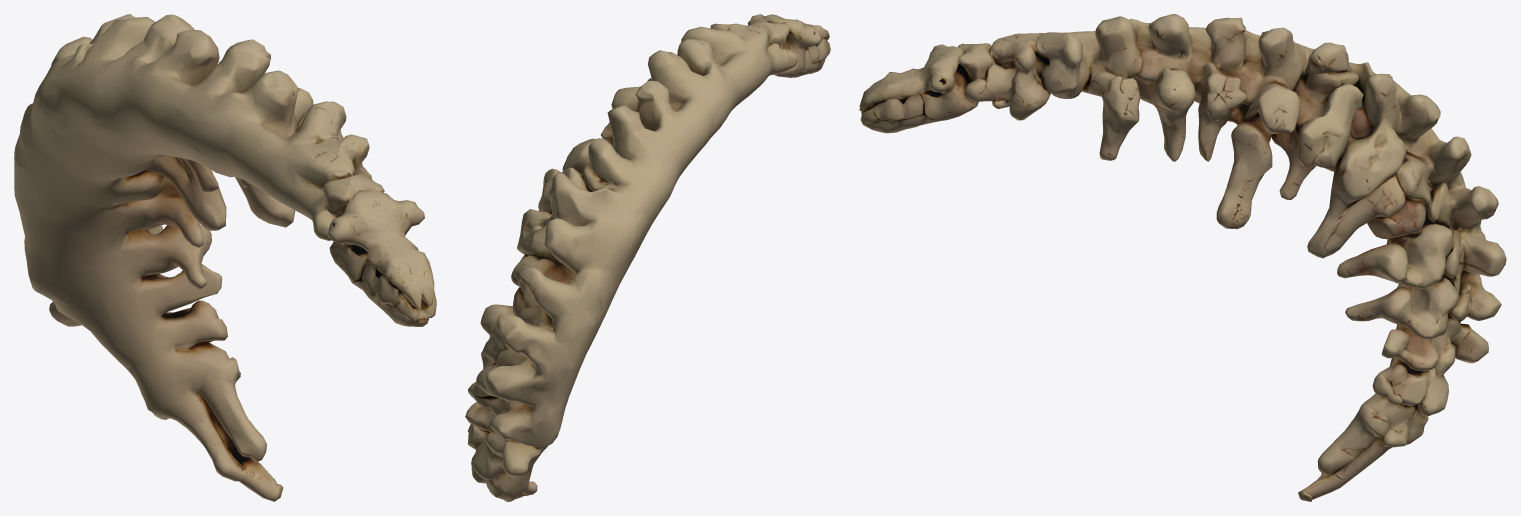
Rendered from tail_vertebrae.glb.
3 renders of one model, left to right at view 1: azimuth 30°, elevation 25°; view 2: azimuth 150°, elevation 25°; view 3: azimuth 270°, elevation 25°, orthographic. The views are drawn at different scales.
Parts seen in each view (by area): view 1: tripo_node_9f206449-1540-400e-b222-0fb75667561f; view 2: tripo_node_9f206449-1540-400e-b222-0fb75667561f; view 3: tripo_node_9f206449-1540-400e-b222-0fb75667561f.
Part boxes in pixels (<box>): tripo_node_9f206449-1540-400e-b222-0fb75667561f: <box>14,14,436,501</box>; tripo_node_9f206449-1540-400e-b222-0fb75667561f: <box>465,14,830,501</box>; tripo_node_9f206449-1540-400e-b222-0fb75667561f: <box>859,14,1506,501</box>.
Bounding box in the file's own units: 0.2941 × 0.7562 × 1.
1 material, 1 textured.
